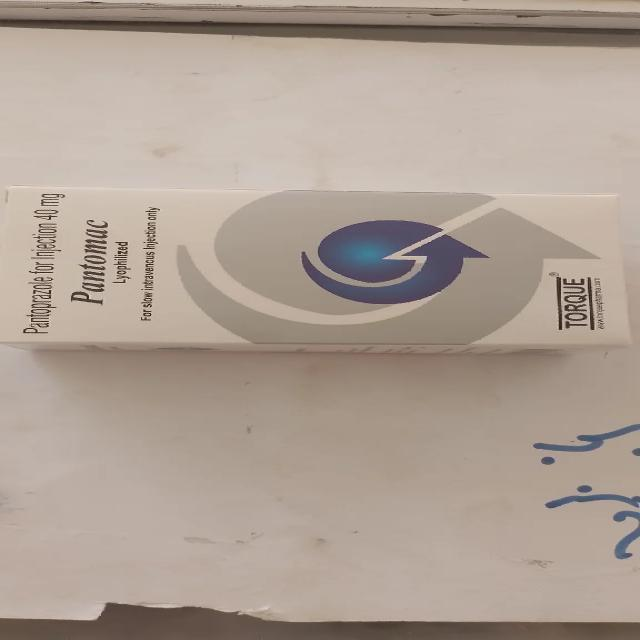drug-name: (70, 210, 108, 308)
